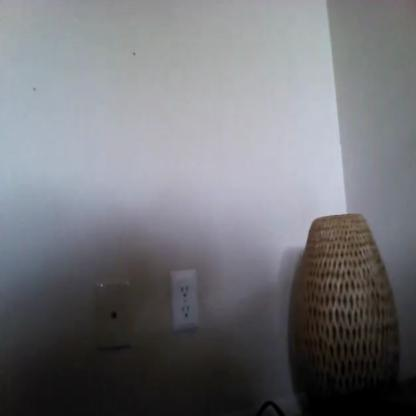OUTLET: (170, 267, 199, 333)
